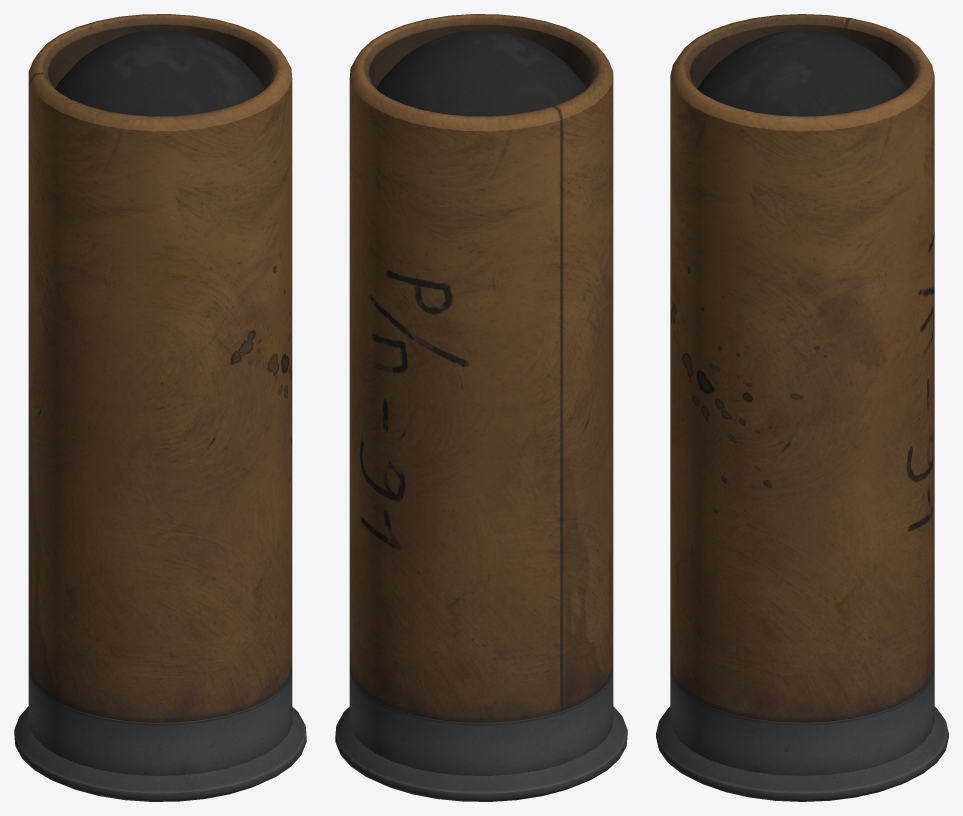
The model's file is bala-carabina.glb.
3 views of the same model, side by side, from view 1: azimuth 30°, elevation 25°; view 2: azimuth 150°, elevation 25°; view 3: azimuth 270°, elevation 25° (orthographic).
Visible parts, largest first — view 1: VolnaP_render; view 2: VolnaP_render; view 3: VolnaP_render.
Part boxes in pixels (<box>): VolnaP_render: <box>14,14,306,801</box>; VolnaP_render: <box>335,14,627,801</box>; VolnaP_render: <box>656,14,948,801</box>.
Size of the model in its own units: 0.0367 by 0.0971 by 0.0367.
1 material, 1 textured.
